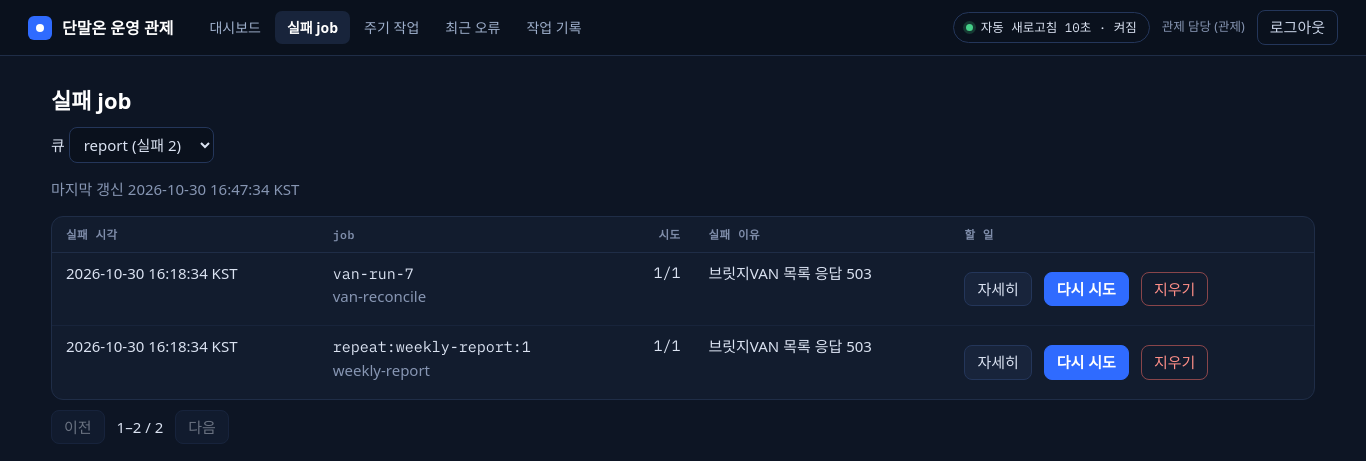
Test case: 실패 job (보강 6, decisions/0072) › 지우기는 되돌릴 수 없다고 묻고 지운다
The image size is (1366, 461).
Click the button "지우기" in the row of "van-run-7".
click(1175, 289)  # box top-left (1141, 272), bottom-right (1208, 306)
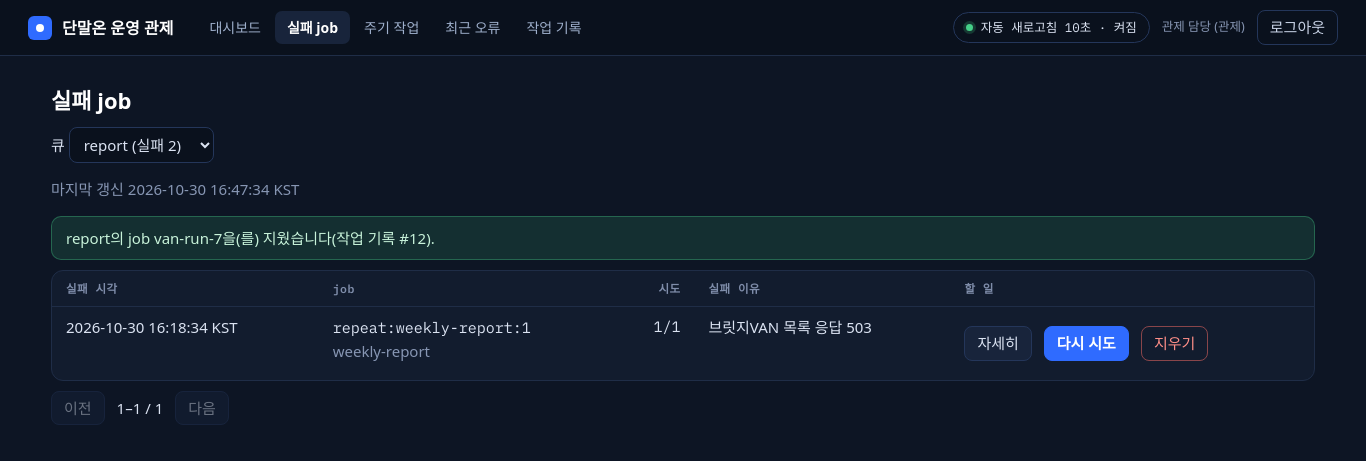
expect the text "report의 job van-run-7을(를) 지웠습니다(작업 기록 #12)." is shown: met, box top-left (51, 216), bottom-right (1315, 260)
